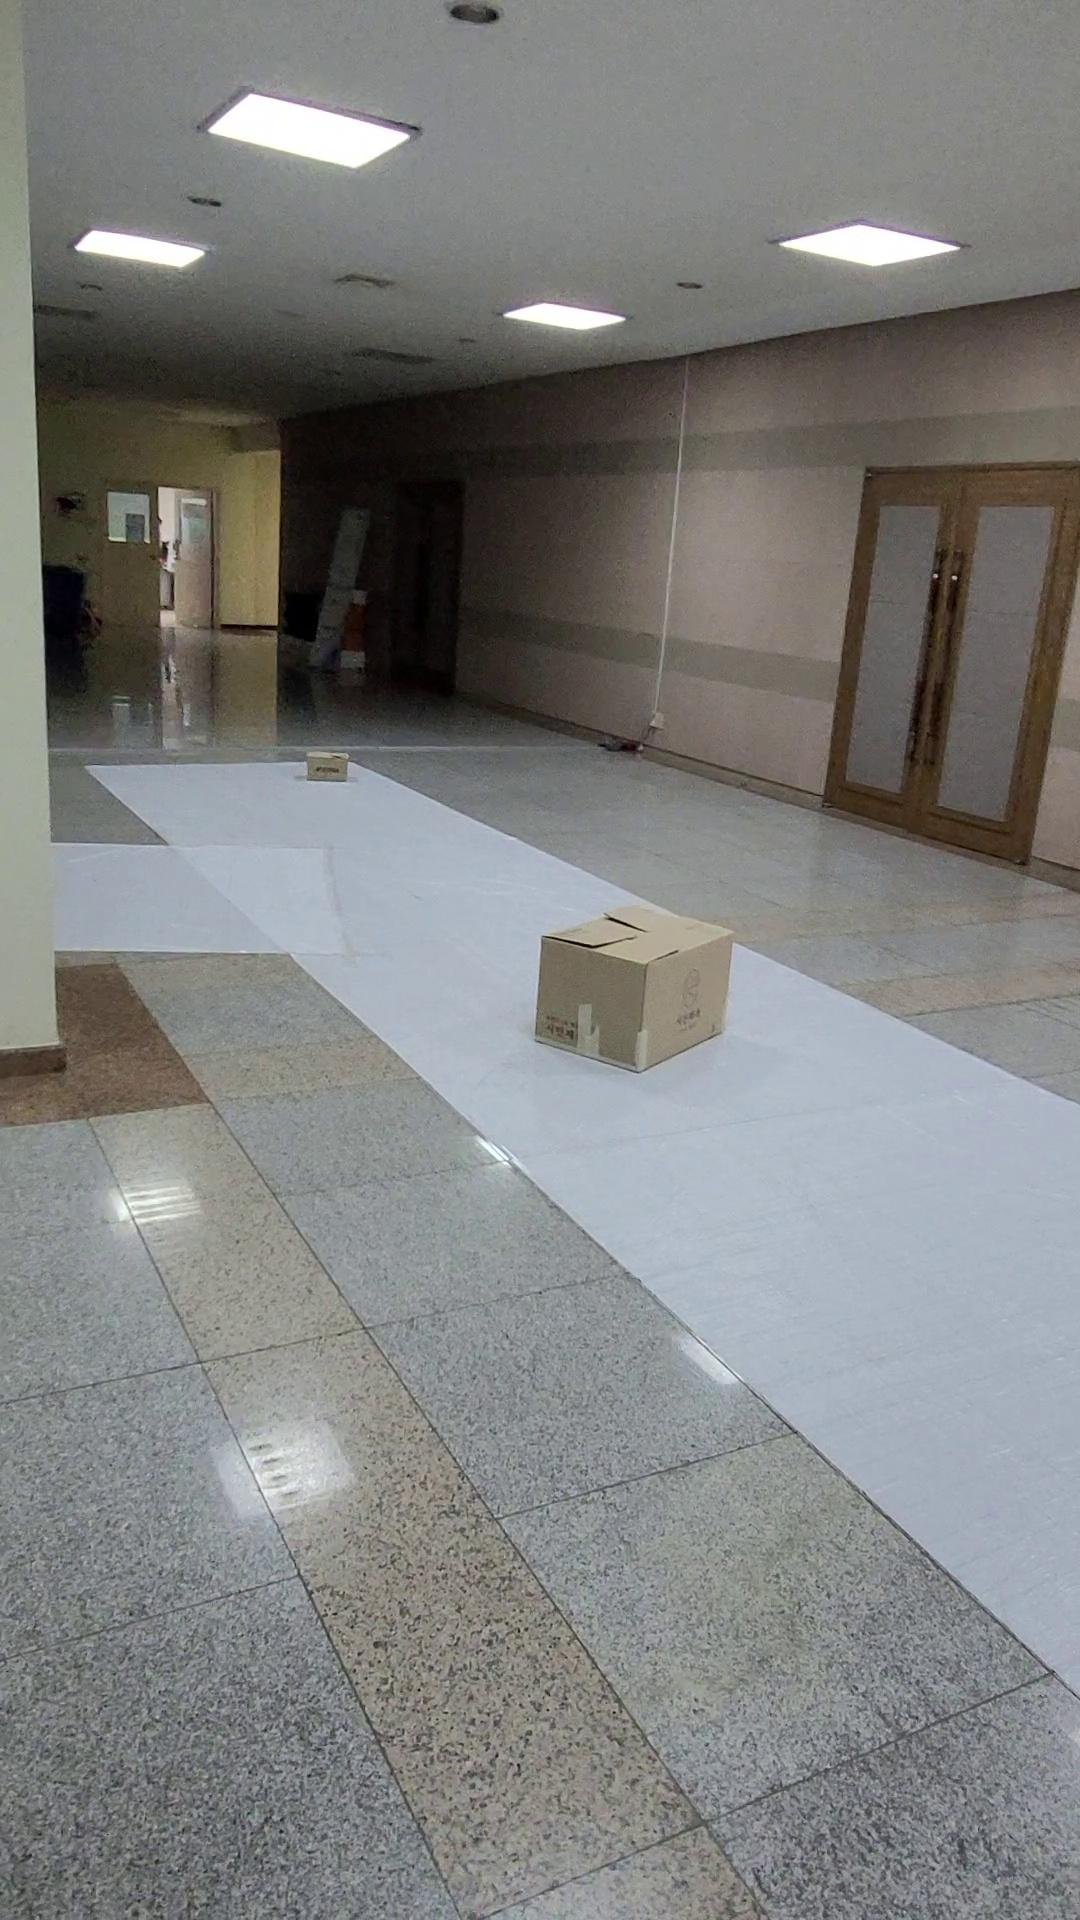Box: (516, 887, 762, 1088), (284, 740, 372, 807)
